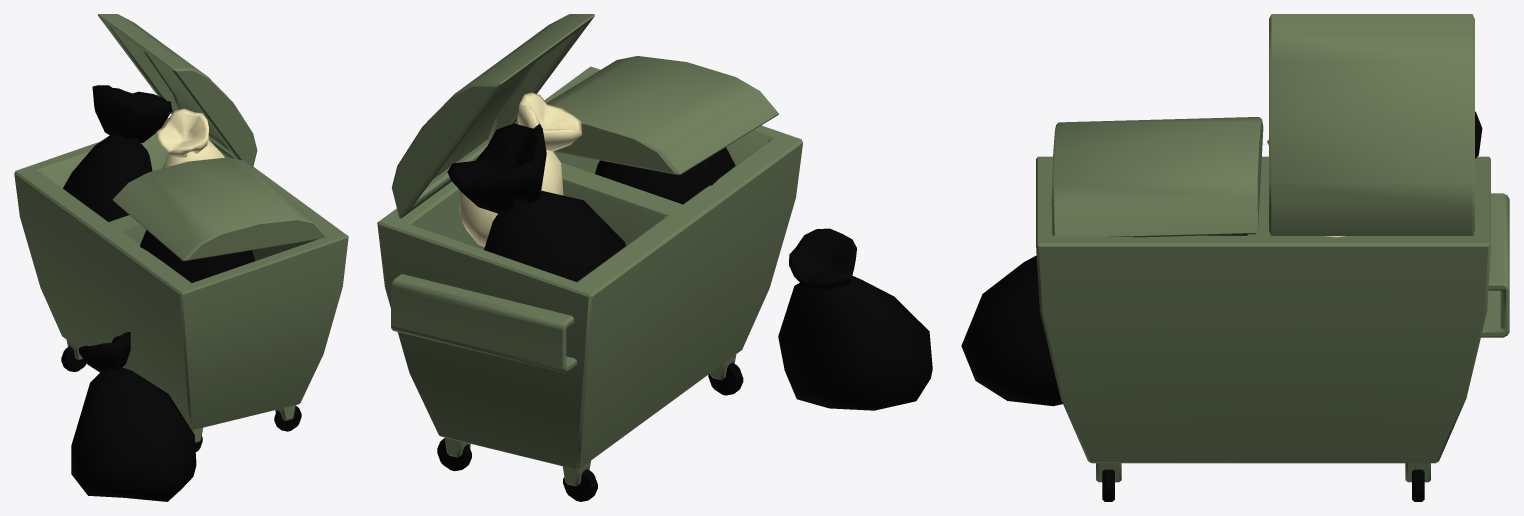
Rendered from Dumpster.glb.
3 renders of one model, left to right at view 1: azimuth 30°, elevation 25°; view 2: azimuth 150°, elevation 25°; view 3: azimuth 270°, elevation 25°, orthographic. The views are drawn at different scales.
Parts seen in each view (by area): view 1: Dumpster; view 2: Dumpster; view 3: Dumpster.
Part boxes in pixels (left/top/right/bottom): Dumpster: left=14, top=14, right=348, bottom=501; Dumpster: left=377, top=14, right=932, bottom=501; Dumpster: left=961, top=14, right=1509, bottom=501.
Size of the model in its own units: 1.63 by 1.92 by 2.12.
1 material, 1 textured.
